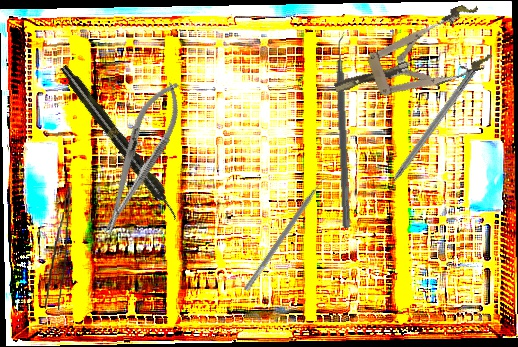Handpiece: (56, 62, 184, 223)
Hook Surgical: (377, 67, 477, 200)
Needle Holder: (87, 74, 193, 242)
Spatula Surgical: (243, 173, 332, 295), (332, 32, 359, 228)
Speculum: (323, 0, 498, 119)
Tissue Forceps: (44, 185, 72, 311)
